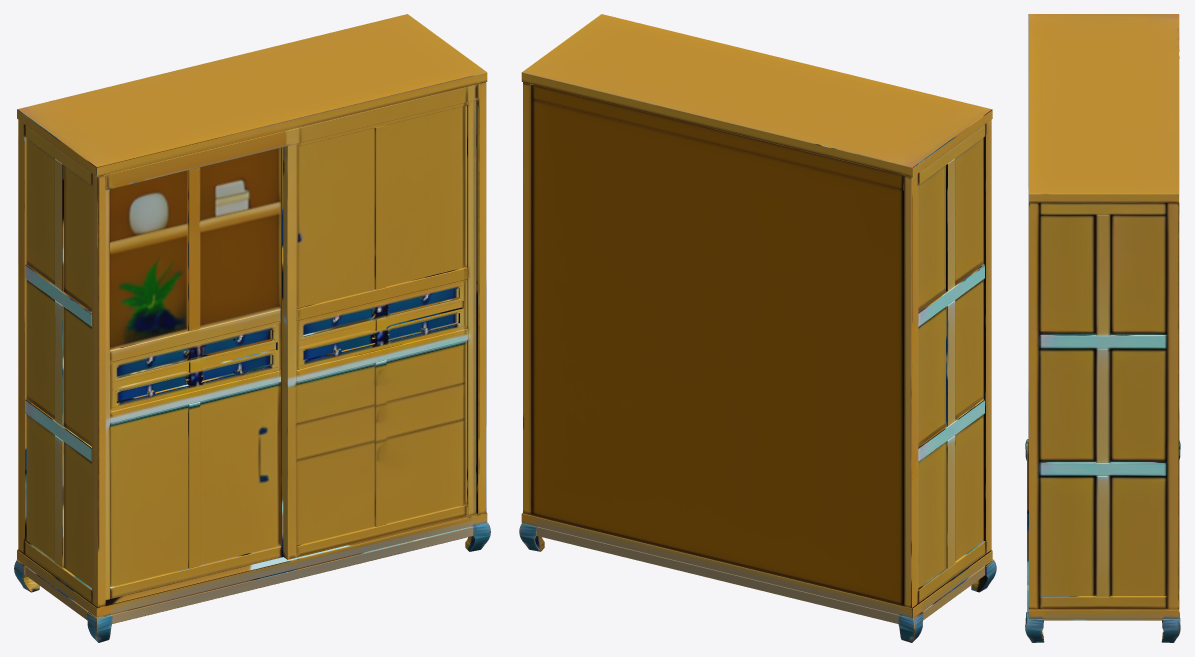
Rendered from edited_mesh.glb.
3 views of the same model, side by side, from view 1: azimuth 30°, elevation 25°; view 2: azimuth 150°, elevation 25°; view 3: azimuth 270°, elevation 25° (orthographic). The views are drawn at different scales.
Visible parts, largest first — view 1: normalized_model.obj; view 2: normalized_model.obj; view 3: normalized_model.obj.
Part boxes in pixels (bbox=[...]): normalized_model.obj: bbox=[14, 14, 490, 642]; normalized_model.obj: bbox=[519, 14, 996, 642]; normalized_model.obj: bbox=[1025, 14, 1180, 642].
Bounding box in the file's own units: 1.21 × 1.4 × 0.4358.
1 material, 1 textured.
